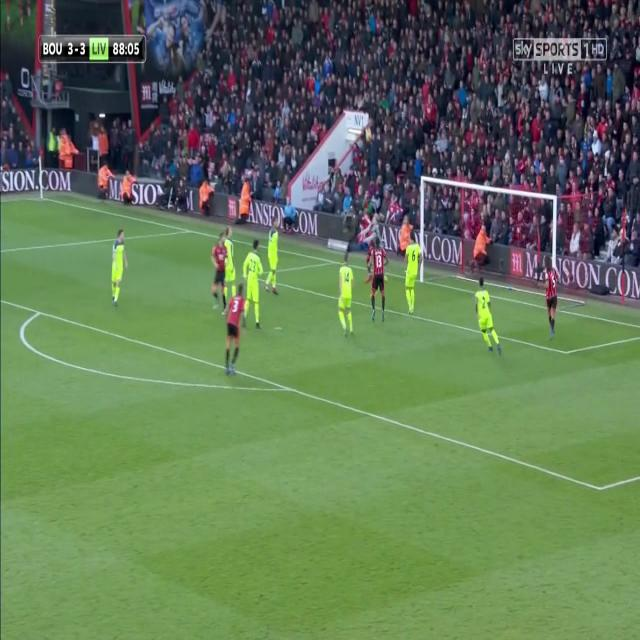Player: (472, 276, 504, 358), (223, 281, 246, 381), (242, 239, 264, 332), (538, 254, 561, 342), (369, 236, 390, 325), (336, 253, 357, 340), (109, 227, 130, 309), (404, 231, 424, 316), (208, 232, 228, 316), (264, 214, 281, 298), (224, 227, 237, 306)
